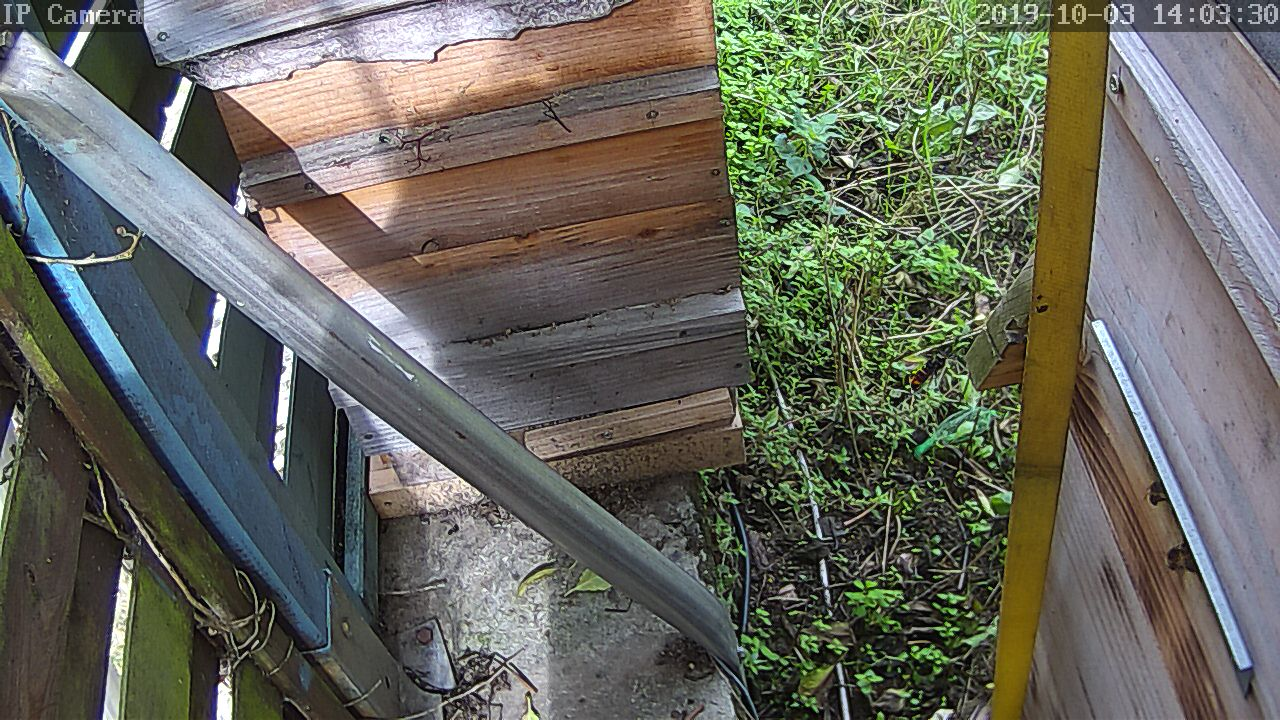bee: (1158, 539, 1199, 579), (1137, 470, 1169, 504)
hornet: (905, 352, 952, 398)
